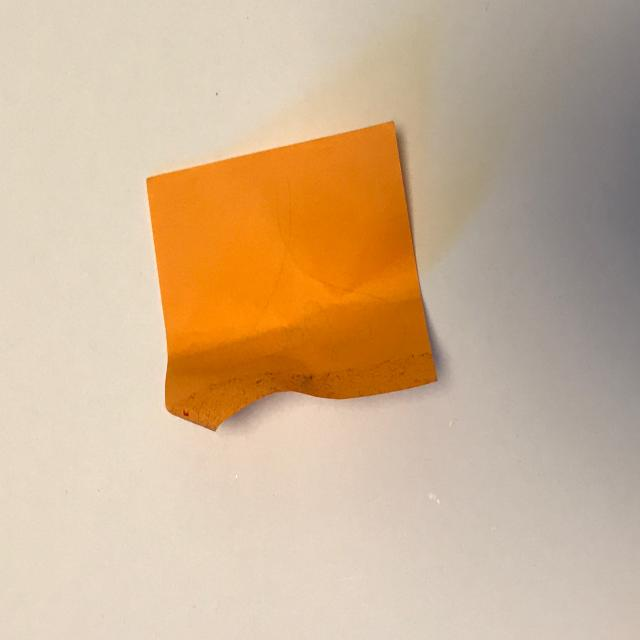paper: (137, 106, 461, 466)
